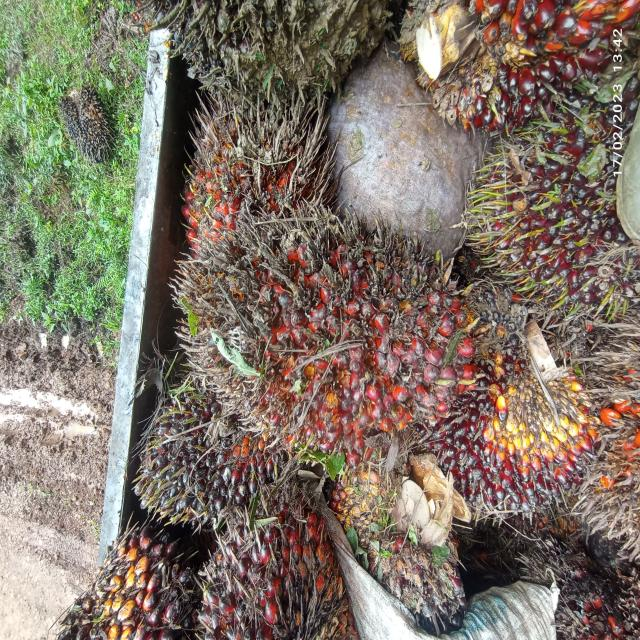fraksi 00: (127, 371, 246, 531)
fraksi 1: (425, 288, 598, 567), (477, 124, 640, 311)
fraksi 4: (172, 216, 482, 456), (172, 106, 334, 261)
